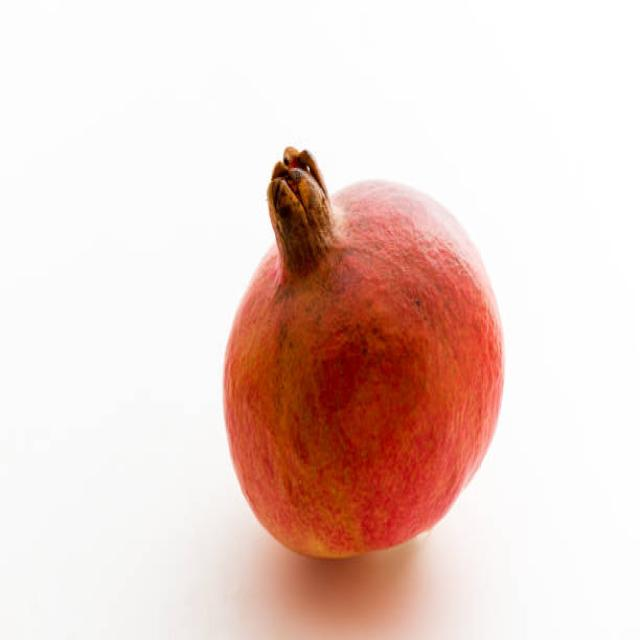overripe: (219, 136, 510, 565)
